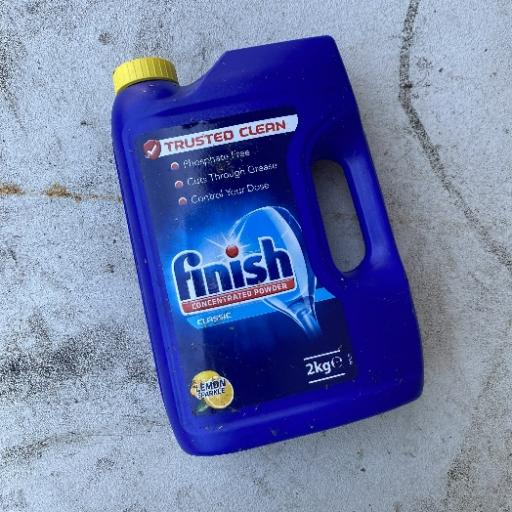Plastic: (107, 34, 426, 456)
